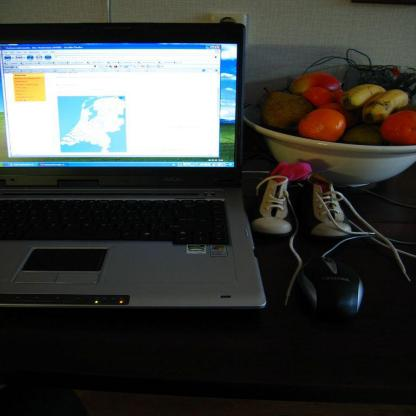board: (0, 24, 267, 309)
